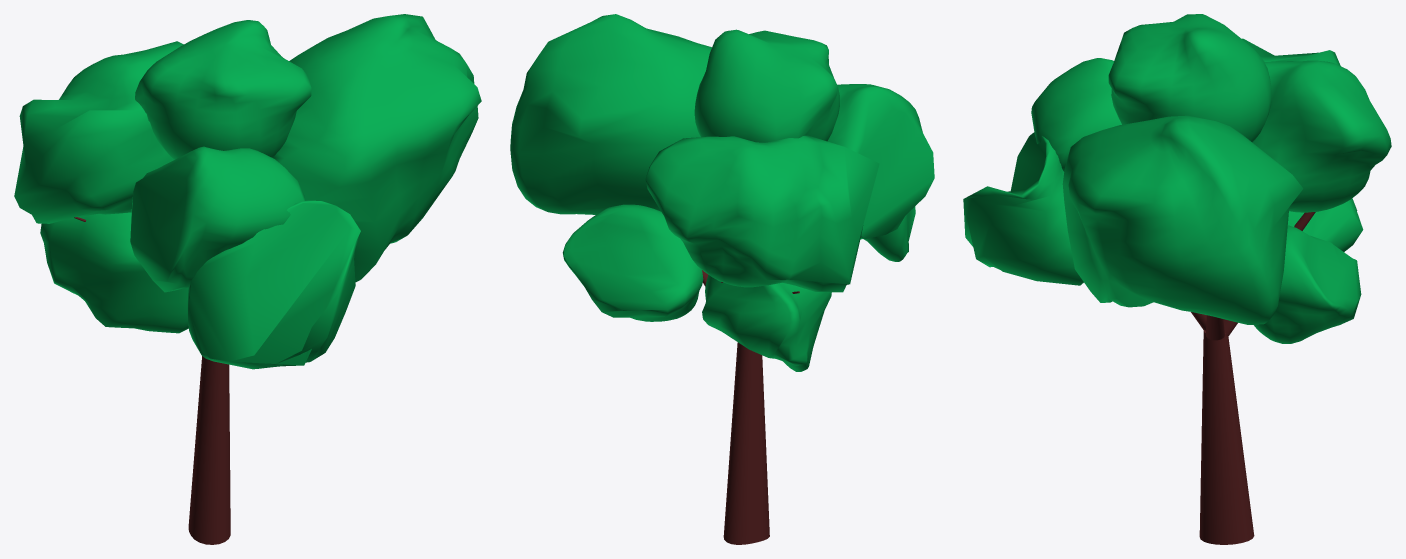
Rendered from tree.fbx.
3 renders of one model, left to right at view 1: azimuth 30°, elevation 25°; view 2: azimuth 150°, elevation 25°; view 3: azimuth 270°, elevation 25°, orthographic. The views are drawn at different scales.
Visible parts, largest first — view 1: pSphere3, pSphere6, pSphere2, pSphere5, pSphere1, pSphere4, pCylinder1; view 2: pSphere3, pSphere2, pSphere5, pSphere7, pSphere1, pSphere4, pCylinder1, pSphere6; view 3: pSphere3, pSphere2, pSphere5, pSphere6, pCylinder1, pSphere7, pSphere1, pSphere4.
Boxes of the visible parts, left/top/right/bottom form: pSphere3: left=273, top=14, right=481, bottom=282; pSphere6: left=187, top=200, right=361, bottom=369; pSphere2: left=14, top=41, right=183, bottom=223; pSphere5: left=135, top=20, right=311, bottom=159; pSphere1: left=130, top=146, right=305, bottom=292; pSphere4: left=40, top=212, right=188, bottom=333; pCylinder1: left=188, top=356, right=230, bottom=544; pSphere3: left=510, top=14, right=711, bottom=214; pSphere2: left=645, top=135, right=879, bottom=292; pSphere5: left=694, top=29, right=839, bottom=142; pSphere7: left=562, top=204, right=703, bottom=321; pSphere1: left=827, top=84, right=934, bottom=239; pSphere4: left=702, top=275, right=831, bottom=371; pCylinder1: left=723, top=342, right=769, bottom=544; pSphere6: left=863, top=206, right=915, bottom=261; pSphere3: left=1062, top=115, right=1303, bottom=324; pSphere2: left=1242, top=38, right=1391, bottom=212; pSphere5: left=1108, top=14, right=1272, bottom=142; pSphere6: left=963, top=132, right=1083, bottom=285; pCylinder1: left=1199, top=330, right=1254, bottom=544; pSphere7: left=1254, top=225, right=1361, bottom=343; pSphere1: left=1031, top=58, right=1121, bottom=171; pSphere4: left=1288, top=198, right=1363, bottom=251.
Bounding box in the file's own units: 8.5 × 10.71 × 8.04.
